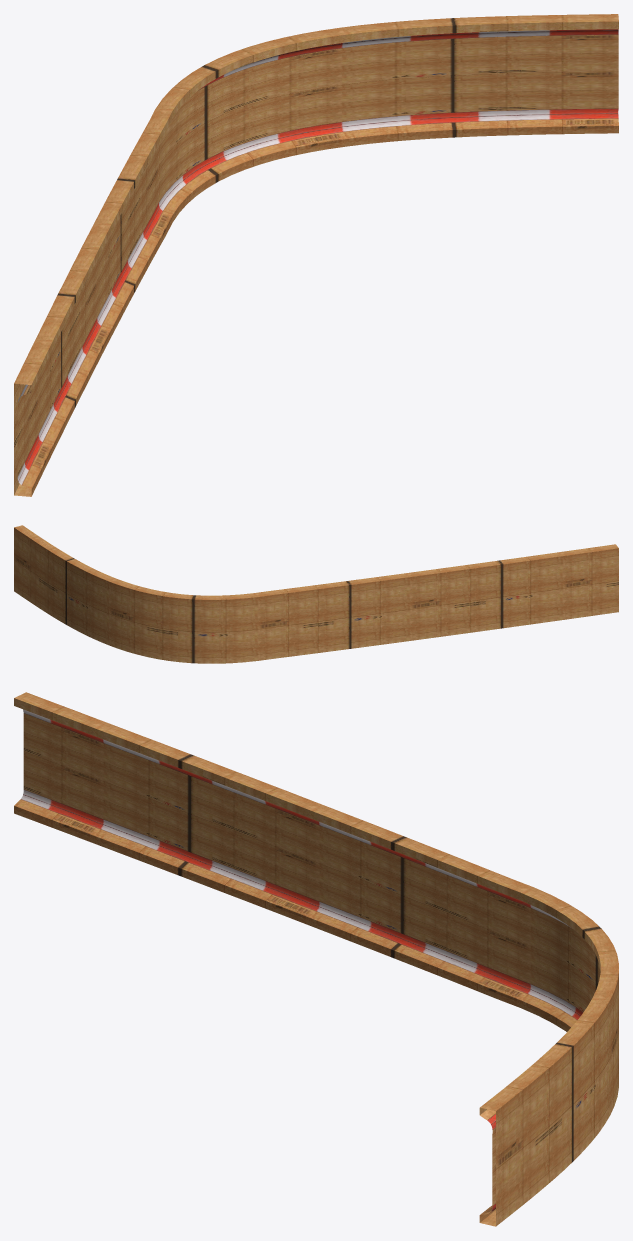
Rendered from jumptrack.fbx.
The picture shows the model from 3 angles, top to bottom: view 1: azimuth 30°, elevation 25°; view 2: azimuth 150°, elevation 25°; view 3: azimuth 270°, elevation 25°; orthographic projection. The views are drawn at different scales.
Visible parts, largest first — view 1: jumptrack; view 2: jumptrack; view 3: jumptrack.
Boxes of the visible parts, <box> form: jumptrack: <box>14,14,618,496</box>; jumptrack: <box>14,525,618,663</box>; jumptrack: <box>14,692,618,1226</box>.
Size of the model in its own units: 22.45 by 2.89 by 13.7.
2 materials, 2 textured.
